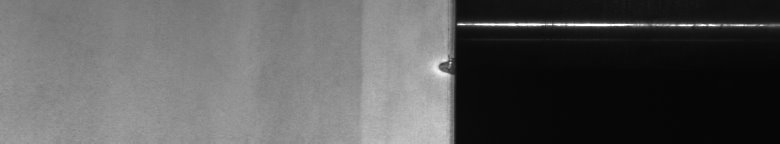hb: (431, 56, 444, 80)
